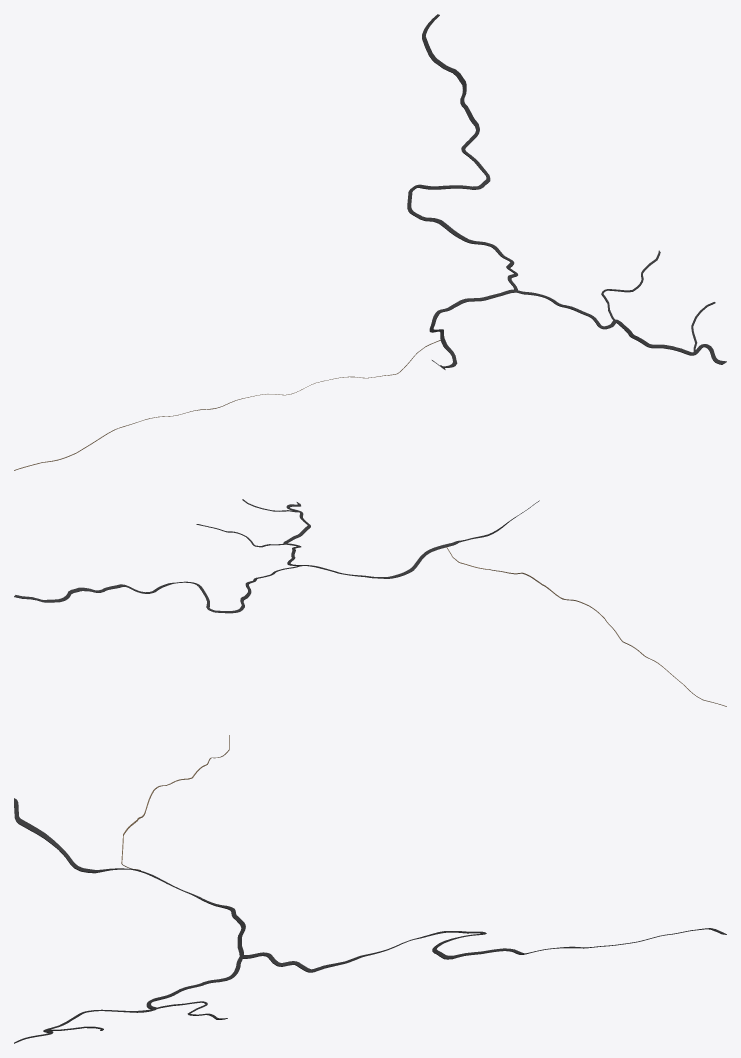
Rendered from 15-27356-14880.efcdb484.glb.
3 views of the same model, one above another, from view 1: azimuth 30°, elevation 25°; view 2: azimuth 150°, elevation 25°; view 3: azimuth 270°, elevation 25° (orthographic). The views are drawn at different scales.
Bounding box in the file's own units: 1174 × 242 × 998.
